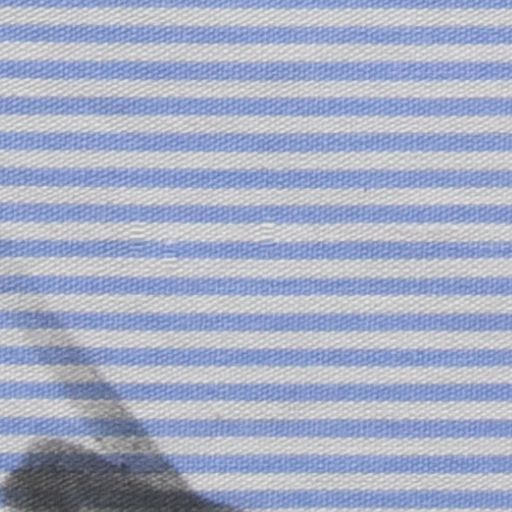defect: (1, 281, 253, 512)
